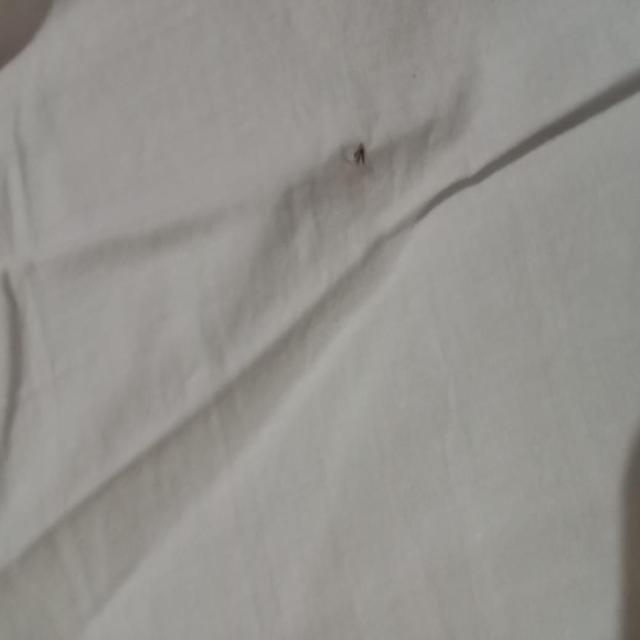stain: (331, 132, 379, 186)
